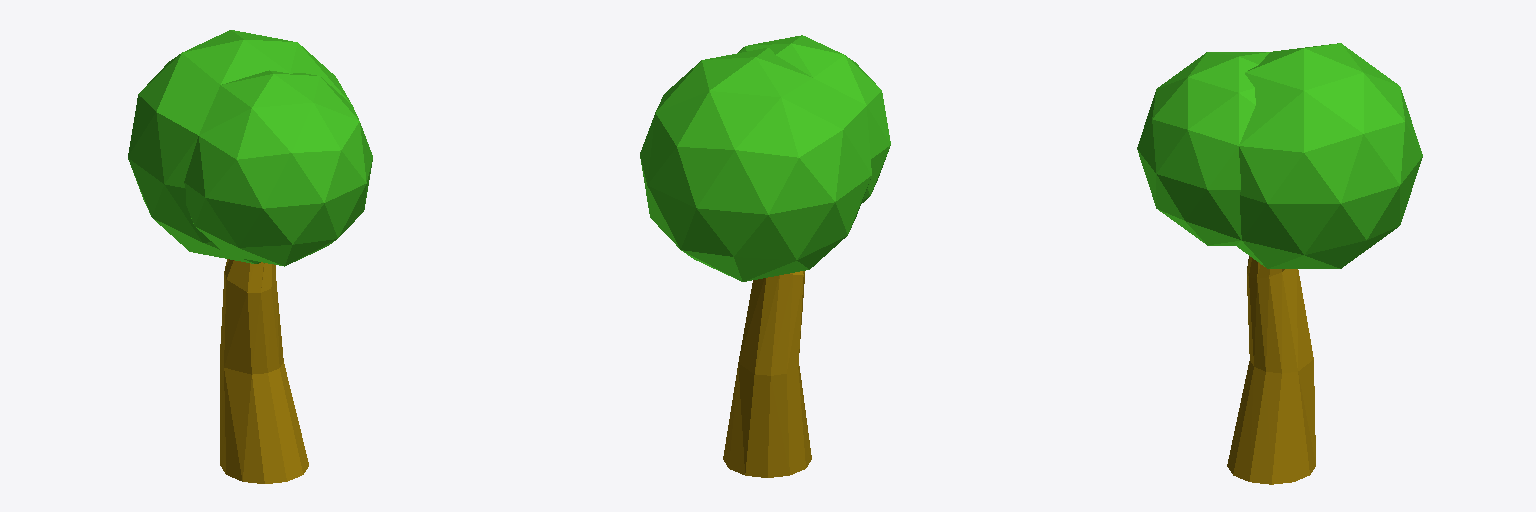
3 views of the same model, side by side, from view 1: azimuth 30°, elevation 25°; view 2: azimuth 150°, elevation 25°; view 3: azimuth 270°, elevation 25° (orthographic).
Parts seen in each view (by area): view 1: Cylinder_Cylinder.004; view 2: Cylinder_Cylinder.004; view 3: Cylinder_Cylinder.004.
Boxes of the visible parts, <box> form: Cylinder_Cylinder.004: <box>128,30,372,483</box>; Cylinder_Cylinder.004: <box>640,35,890,477</box>; Cylinder_Cylinder.004: <box>1137,43,1422,484</box>.
Bounding box in the file's own units: 3.99 × 8.1 × 5.06.
1 materials, 1 textured.